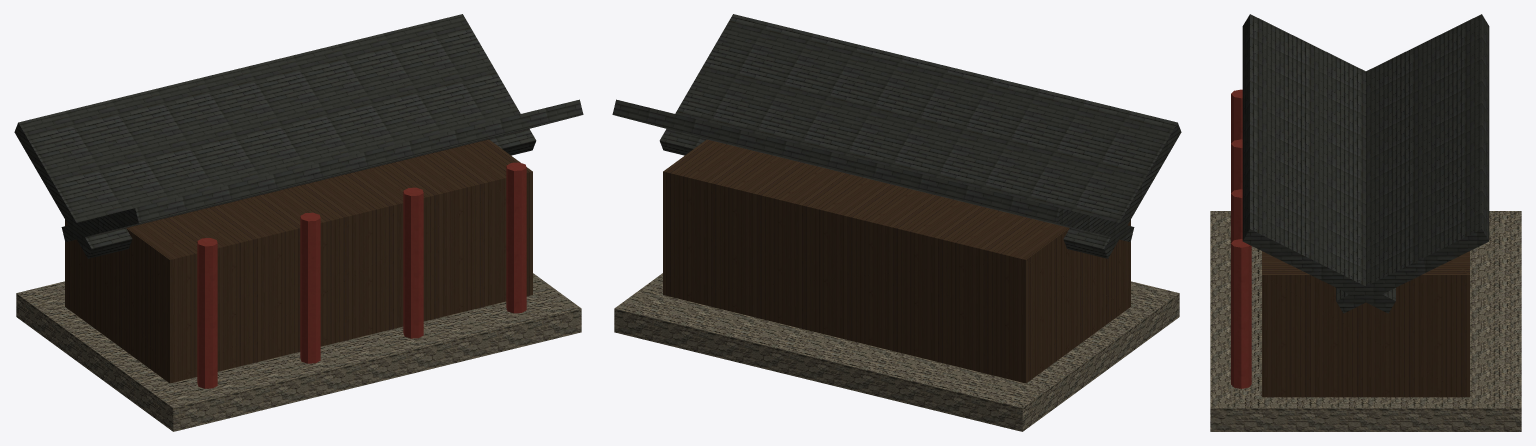
Rendered from skyroute_shrine_01.glb.
3 renders of one model, left to right at view 1: azimuth 30°, elevation 25°; view 2: azimuth 150°, elevation 25°; view 3: azimuth 270°, elevation 25°, orthographic.
Visible parts, largest first — view 1: skyroute_shrine_01; view 2: skyroute_shrine_01; view 3: skyroute_shrine_01.
Boxes of the visible parts, left/top/right/bottom form: skyroute_shrine_01: left=14, top=14, right=583, bottom=431; skyroute_shrine_01: left=612, top=14, right=1181, bottom=431; skyroute_shrine_01: left=1210, top=14, right=1521, bottom=431.
Bounding box in the file's own units: 9.8 × 4.5 × 6.
4 materials, 4 textured.
